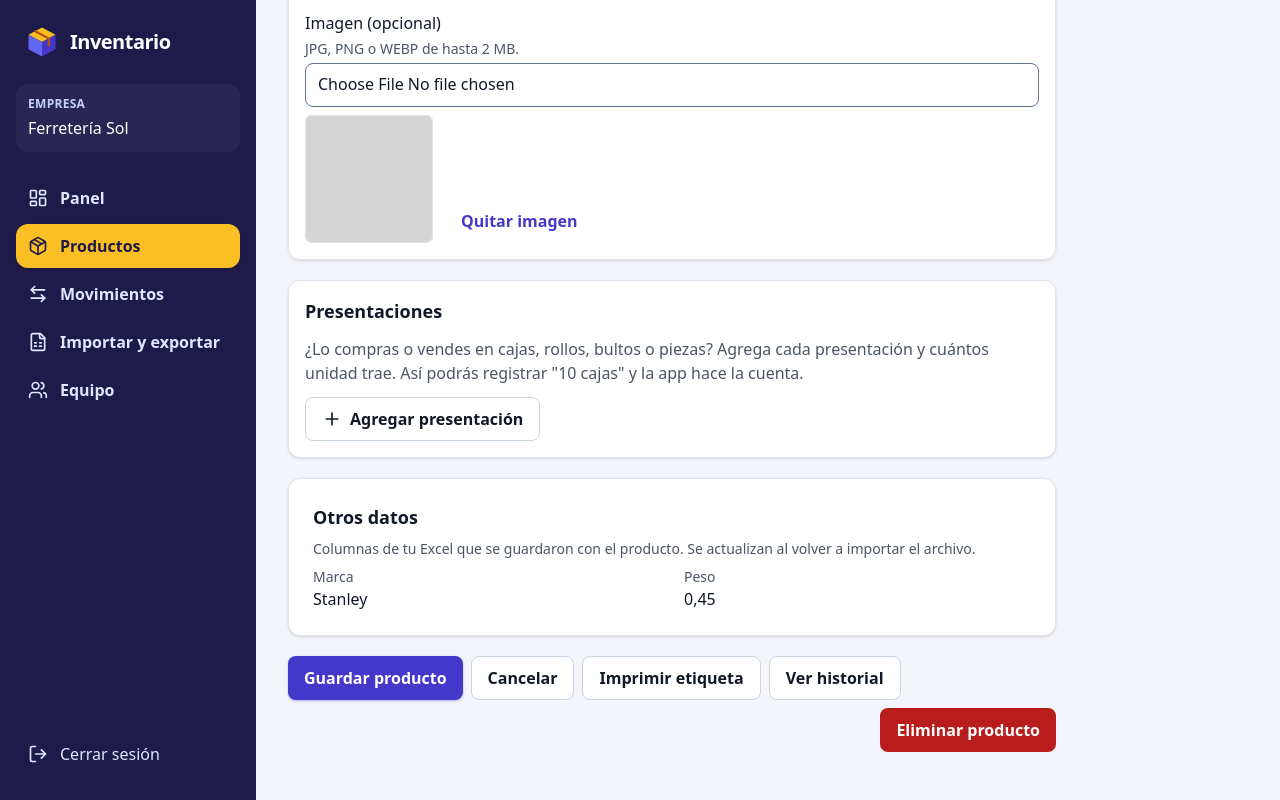
Test: Formulario de producto › pide confirmación antes de eliminar
(page scrolled)
Click the button "Eliminar producto": (968,730) x1=880 y1=708 x2=1056 y2=752
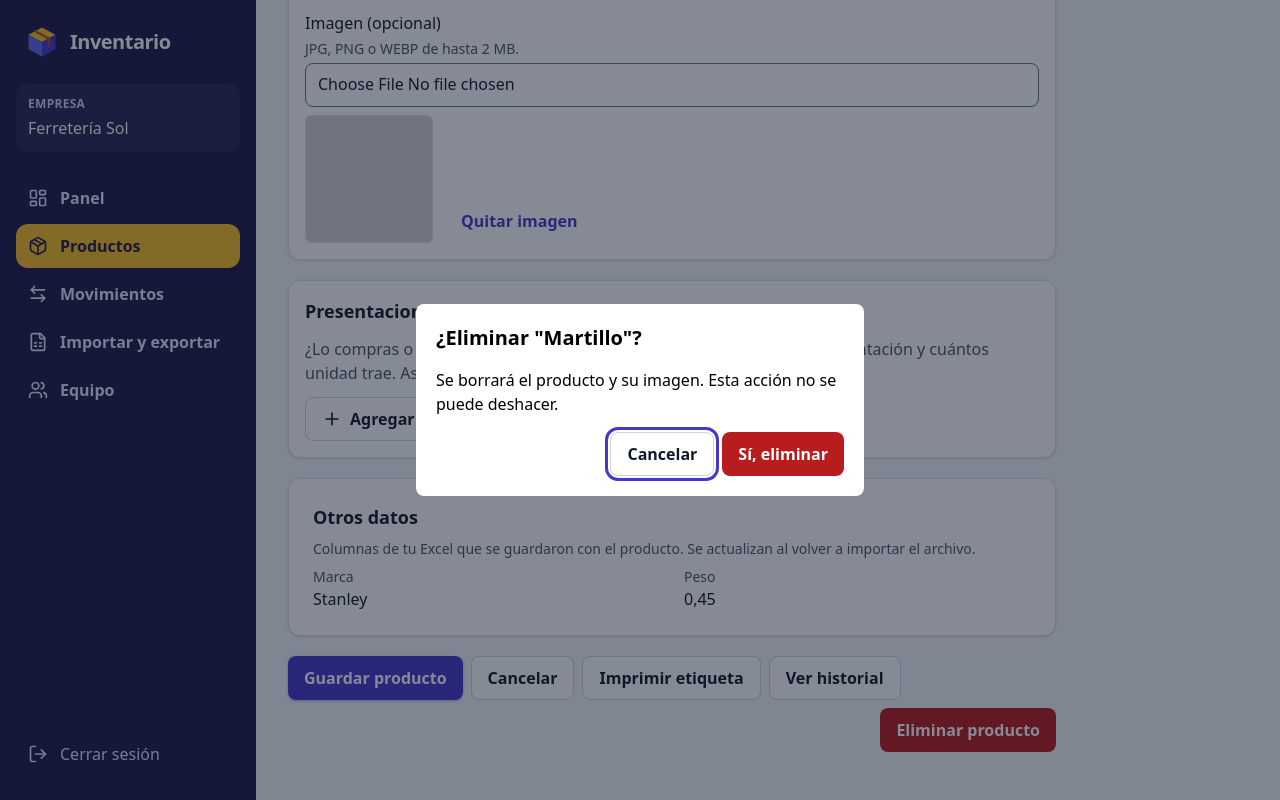
Click the button "Sí, eliminar": (783,454) x1=722 y1=432 x2=844 y2=476
(page scrolled)
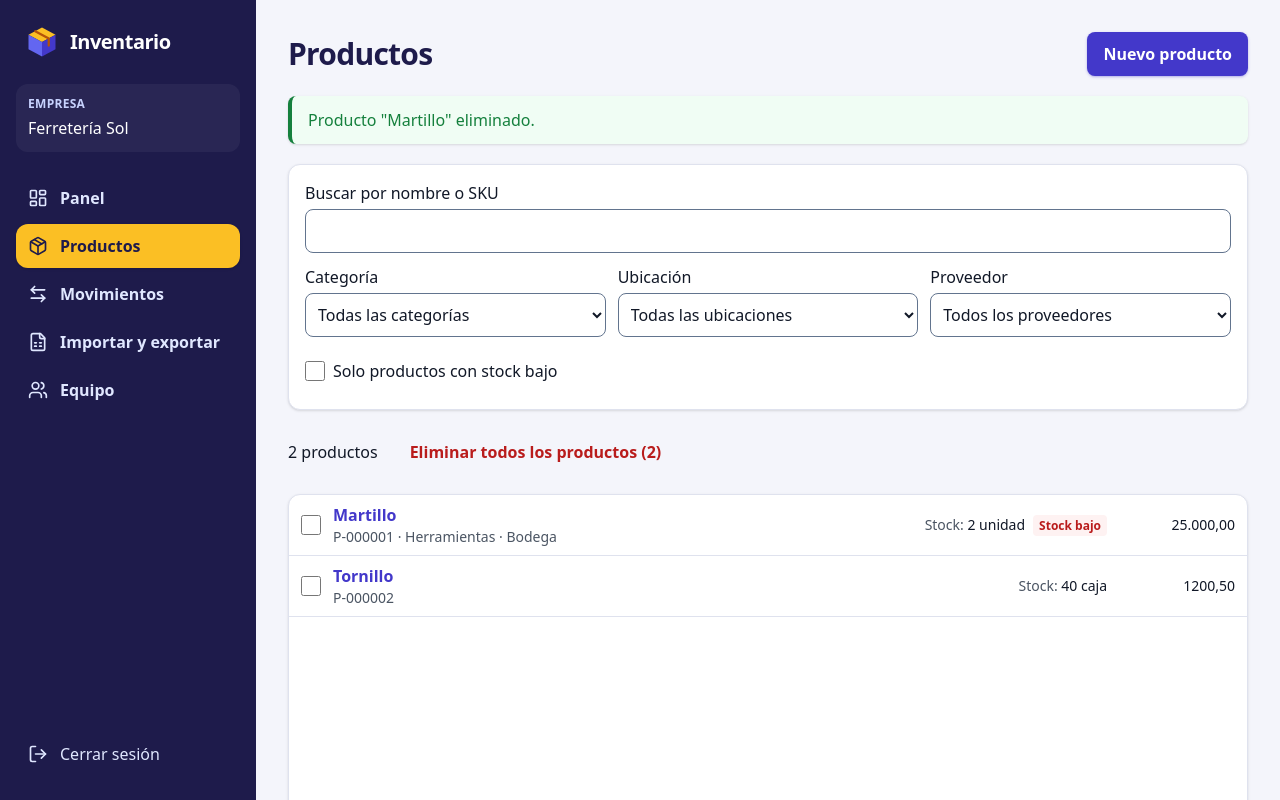
Expected: the text "Producto \"Martillo\" eliminado." is shown, x1=288 y1=96 x2=1248 y2=144
